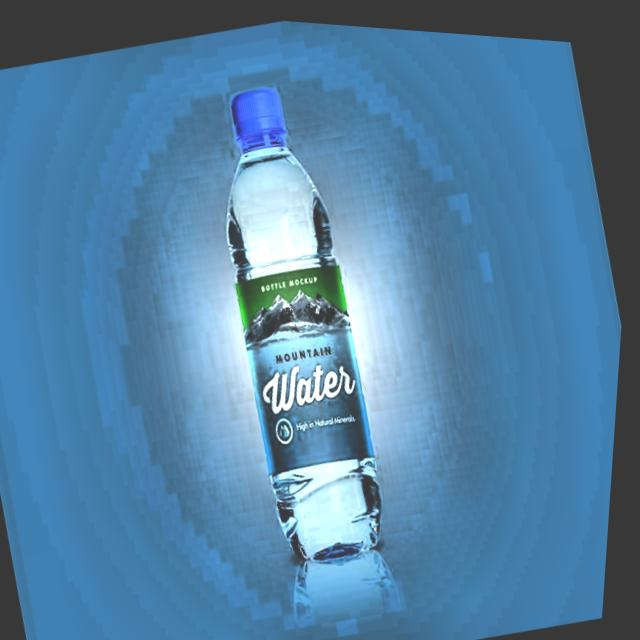Bottles: (157, 44, 447, 593)
